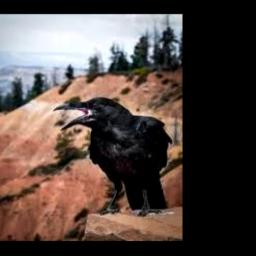Crow: (54, 97, 177, 209)
